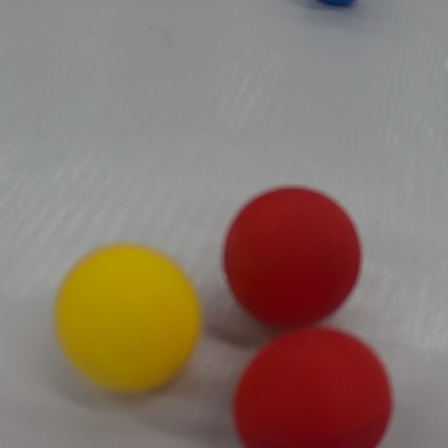red: (222, 185, 363, 329), (232, 327, 394, 448)
yellow: (52, 242, 203, 397)
